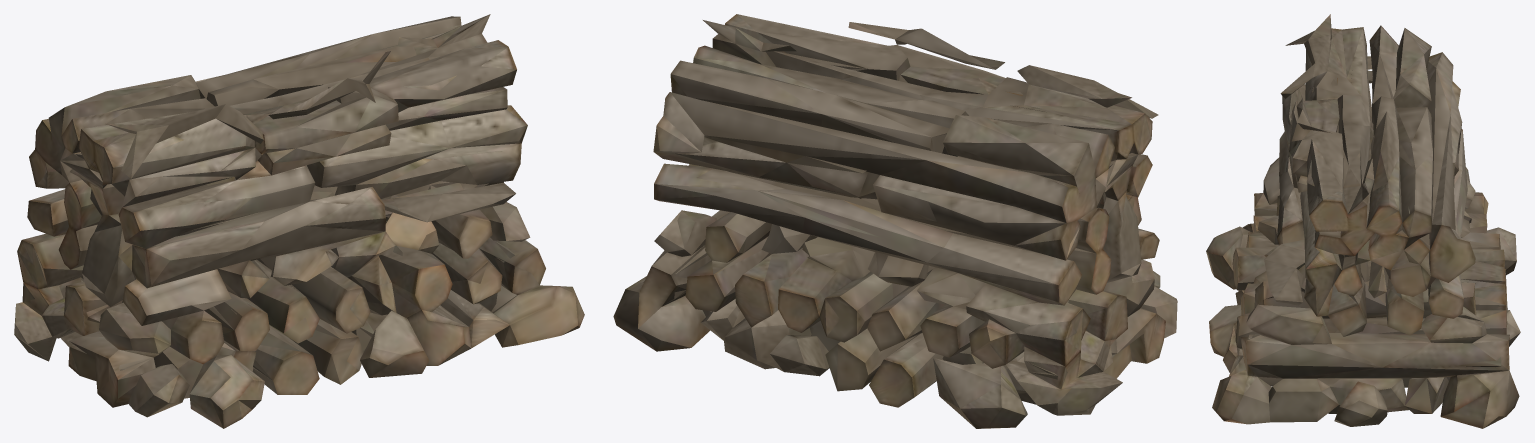
File: beaver_dam.glb
3 renders of one model, left to right at view 1: azimuth 30°, elevation 25°; view 2: azimuth 150°, elevation 25°; view 3: azimuth 270°, elevation 25°, orthographic. The views are drawn at different scales.
Bounding box in the file's own units: 1.9 × 1.07 × 1.27.
1 material, 1 textured.
